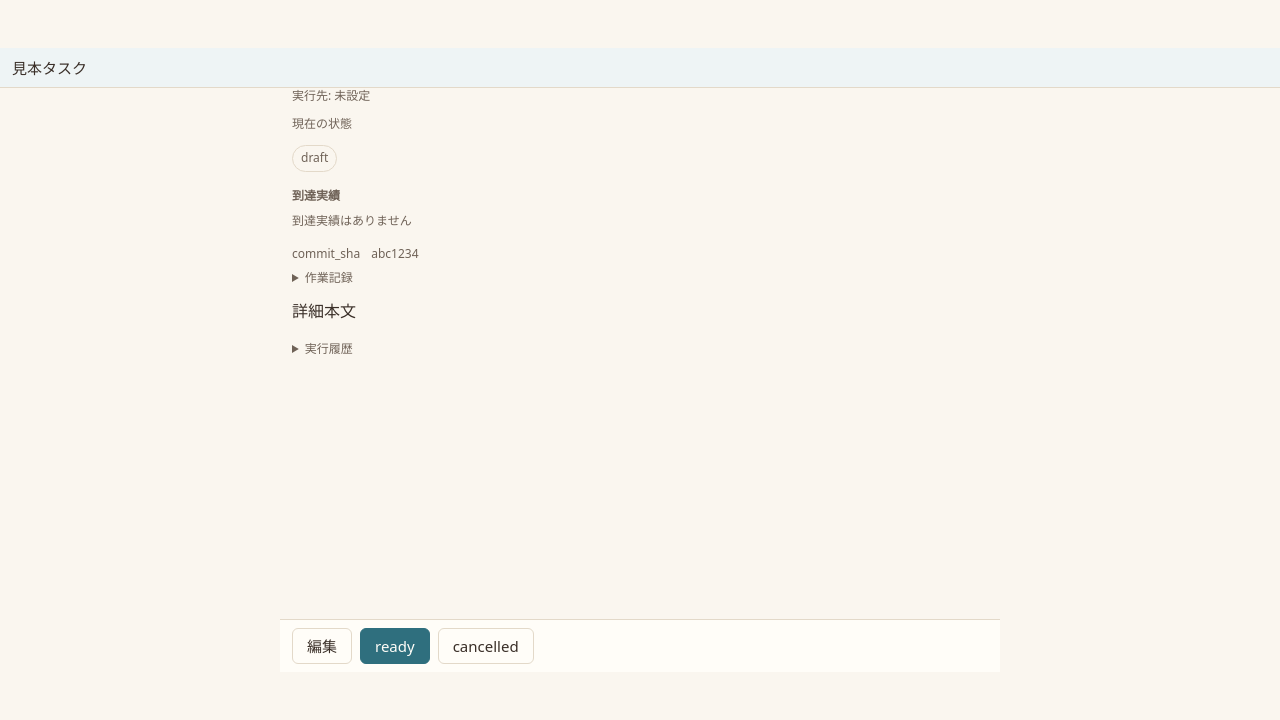
Test: Detail › shows an error message when the transition is refused
What coordinates should you click on to do the following:
click the button "ready"
I would click on:
 (395, 646)
Its box is x1=360 y1=628 x2=430 y2=664.
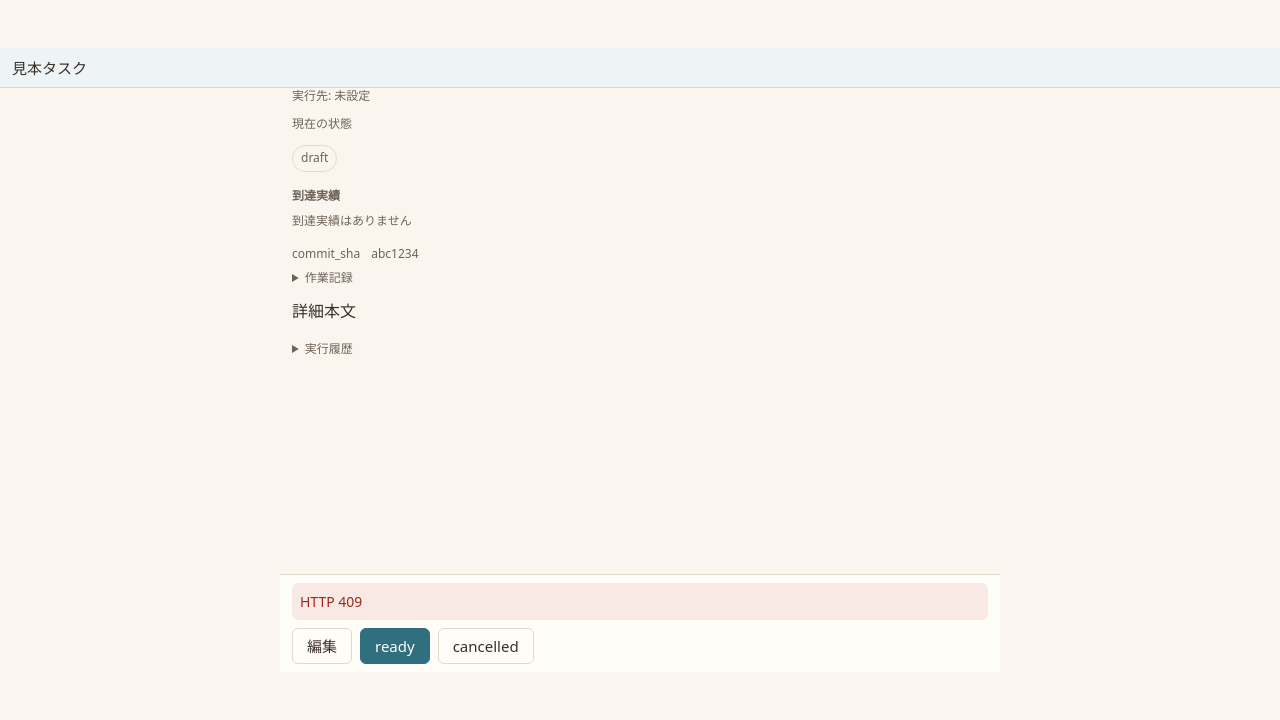
Check: the text "HTTP 409" is shown, box x1=292 y1=583 x2=988 y2=620
